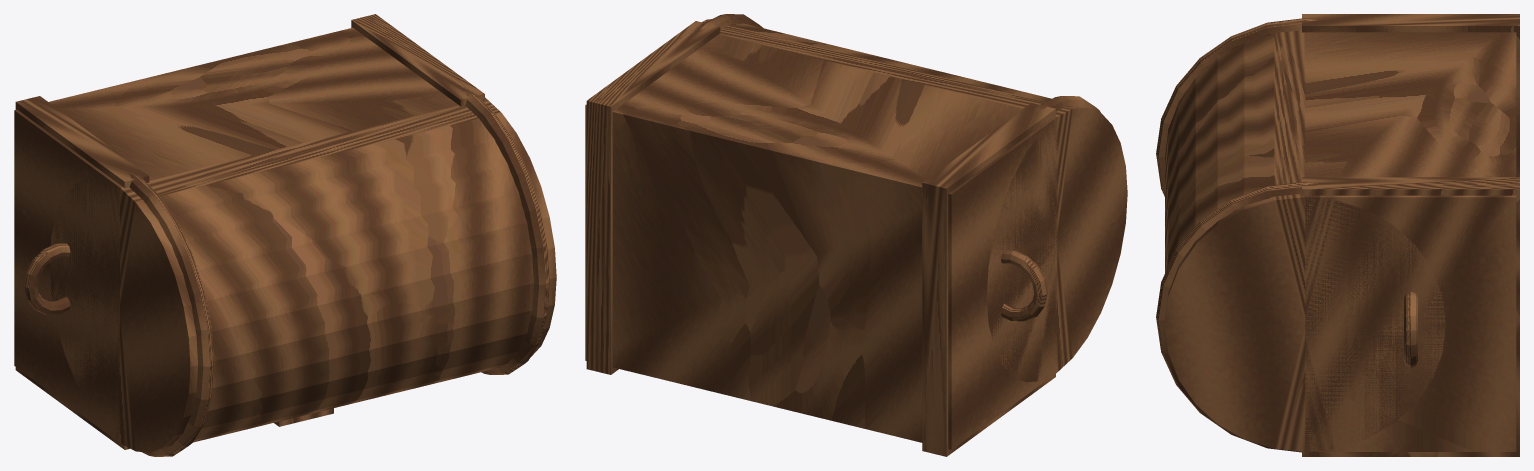
Rendered from carved_chest.glb.
3 views of the same model, side by side, from view 1: azimuth 30°, elevation 25°; view 2: azimuth 150°, elevation 25°; view 3: azimuth 270°, elevation 25° (orthographic).
Parts seen in each view (by area): view 1: geometry_0; view 2: geometry_0; view 3: geometry_0.
Part boxes in pixels (x1,y1,x2,y2): geometry_0: (14,14,556,456); geometry_0: (585,14,1127,456); geometry_0: (1156,14,1519,456).
Size of the model in its own units: 1 by 0.625 by 0.6993.
Materials: 1 (1 with a texture image).
